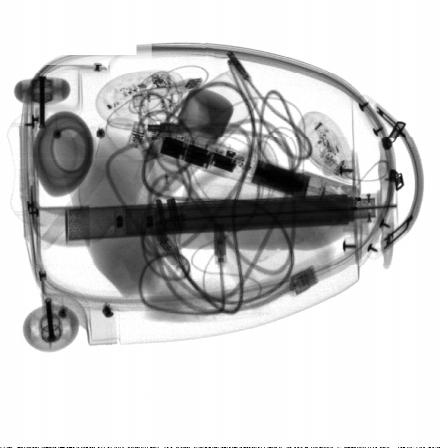Baton: (128, 123, 360, 224)
